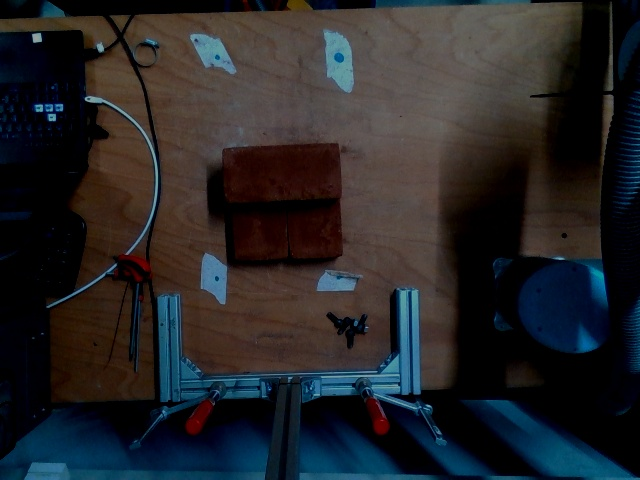brick: (223, 142, 339, 201)
